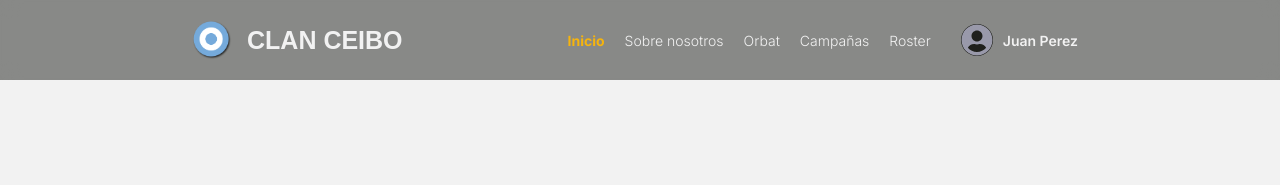
Scenario: Navbar › opens the dropdown on click, revealing Mi perfil and Cerrar sesión
The image size is (1280, 185).
Click the button "Juan Perez". click: coordinates (1019, 40)
box: [951,18,1088,62]
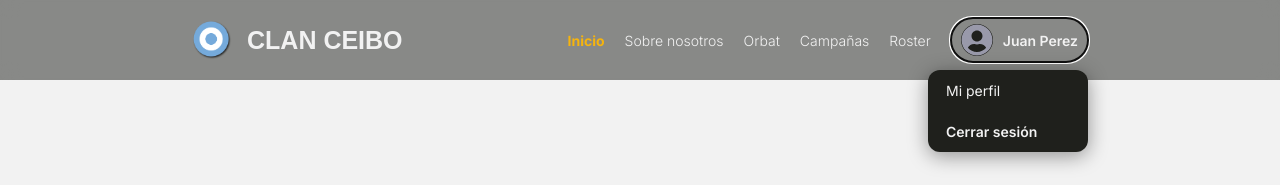
Expected: the link "Mi perfil" is shown, [946,82,1000,99]
Expected: the button "Cerrar sesión" is shown, [928,111,1088,152]
